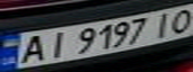1: (93, 21, 115, 51)
7: (127, 15, 154, 45)
9: (72, 25, 100, 55), (109, 19, 133, 48)
A: (9, 33, 51, 65)
I: (39, 29, 72, 61), (148, 10, 178, 38)
O: (163, 6, 193, 35)
